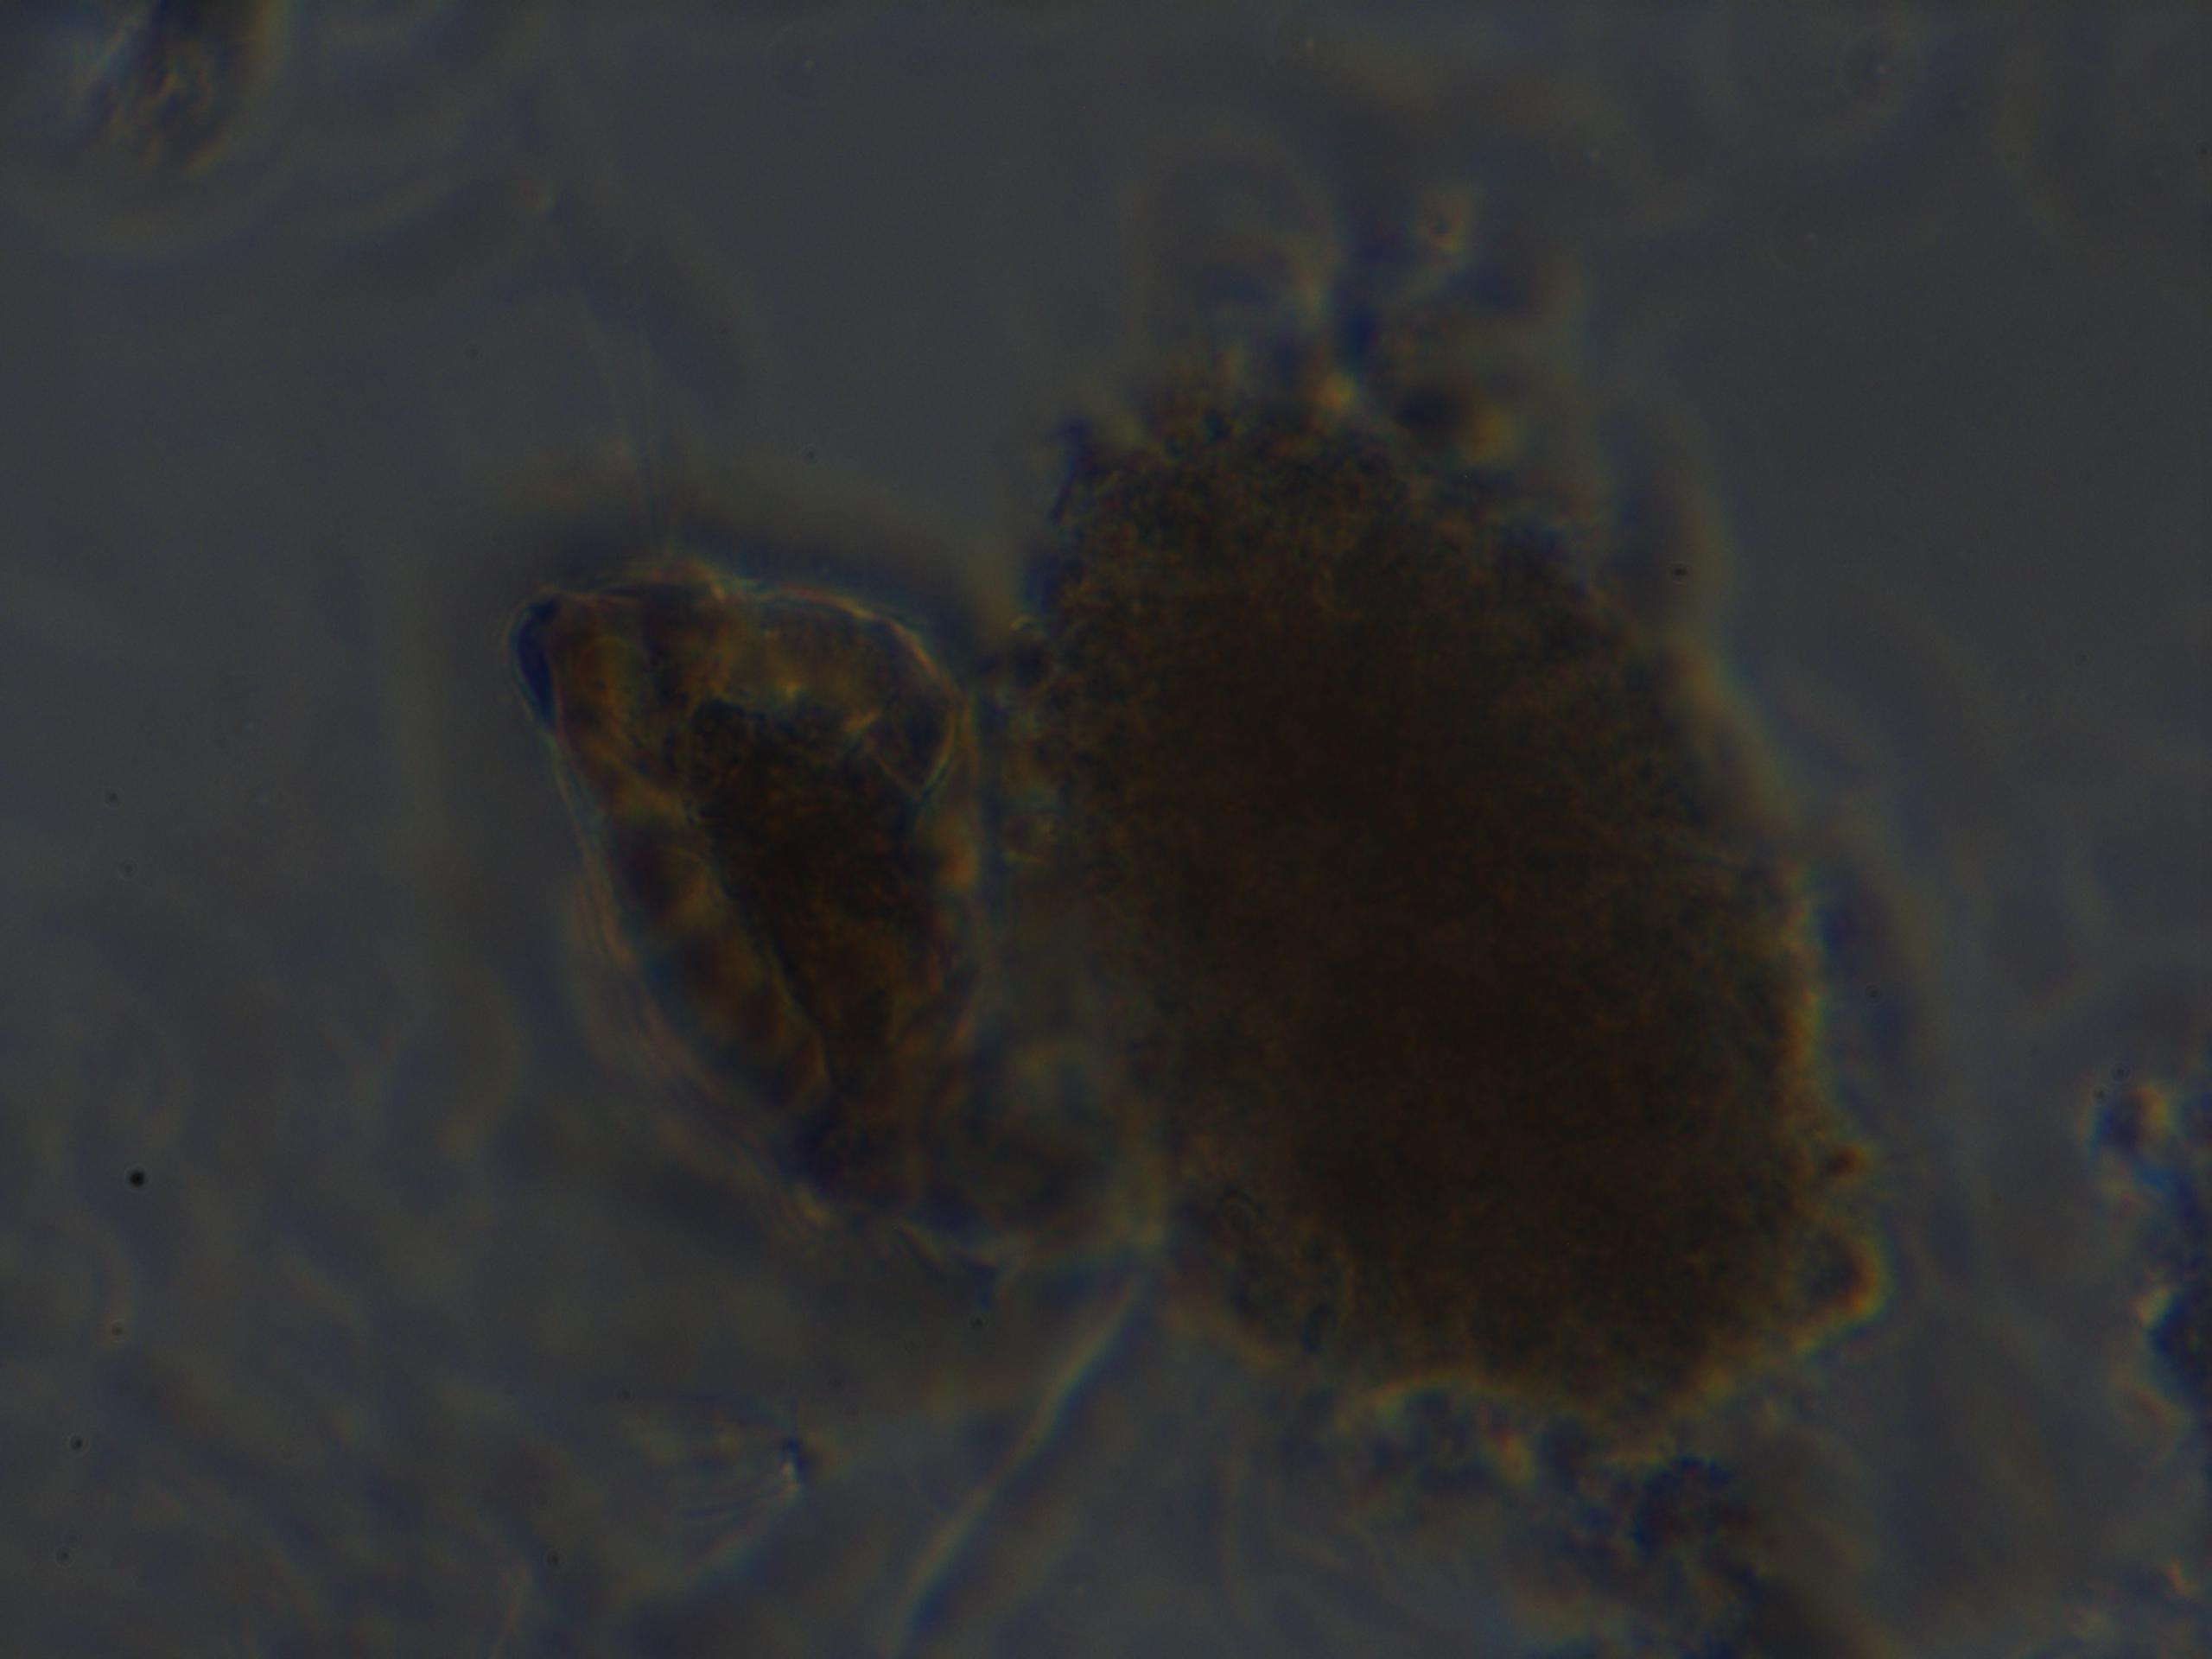filament: (840, 1288, 1162, 1659)
spherical_floc: (972, 380, 1886, 1478)
